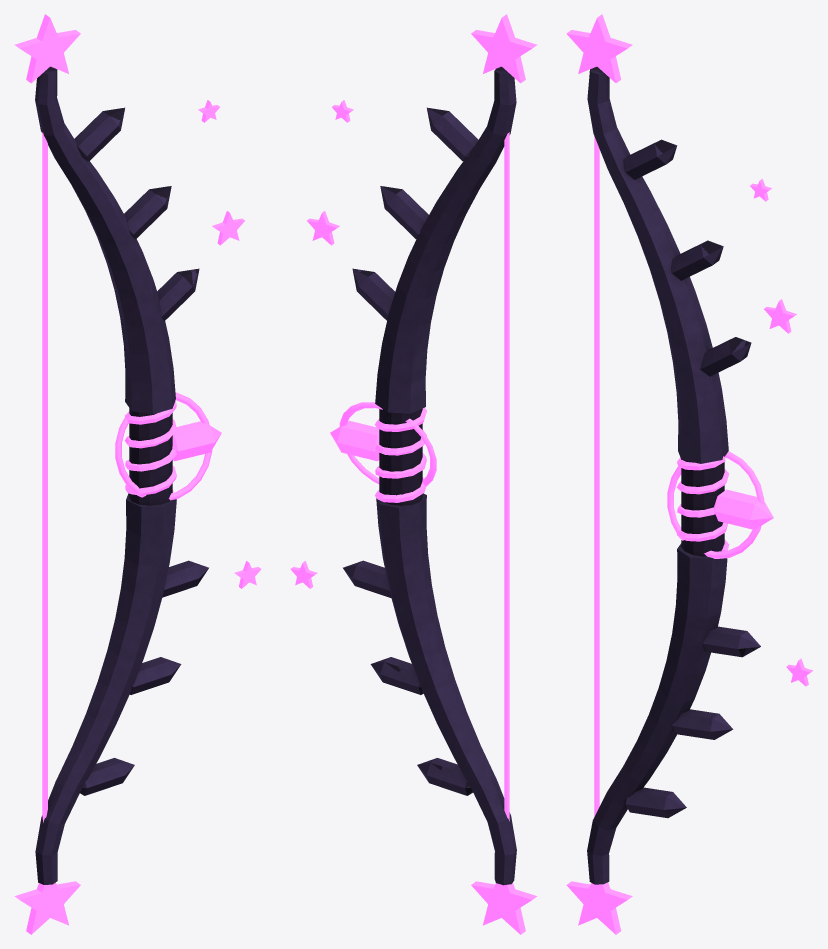
The model's file is 12_void_ranged.fbx.
3 views of the same model, side by side, from view 1: azimuth 30°, elevation 25°; view 2: azimuth 150°, elevation 25°; view 3: azimuth 330°, elevation 25° (orthographic).
Parts seen in each view (by area): view 1: Weapon; view 2: Weapon; view 3: Weapon.
Part boxes in pixels (x1,y1,x2,y2): Weapon: (14,14,261,934); Weapon: (290,14,537,934); Weapon: (566,14,813,934).
Size of the model in its own units: 39.04 by 140 by 7.28.
Materials: 2 (1 with a texture image).
